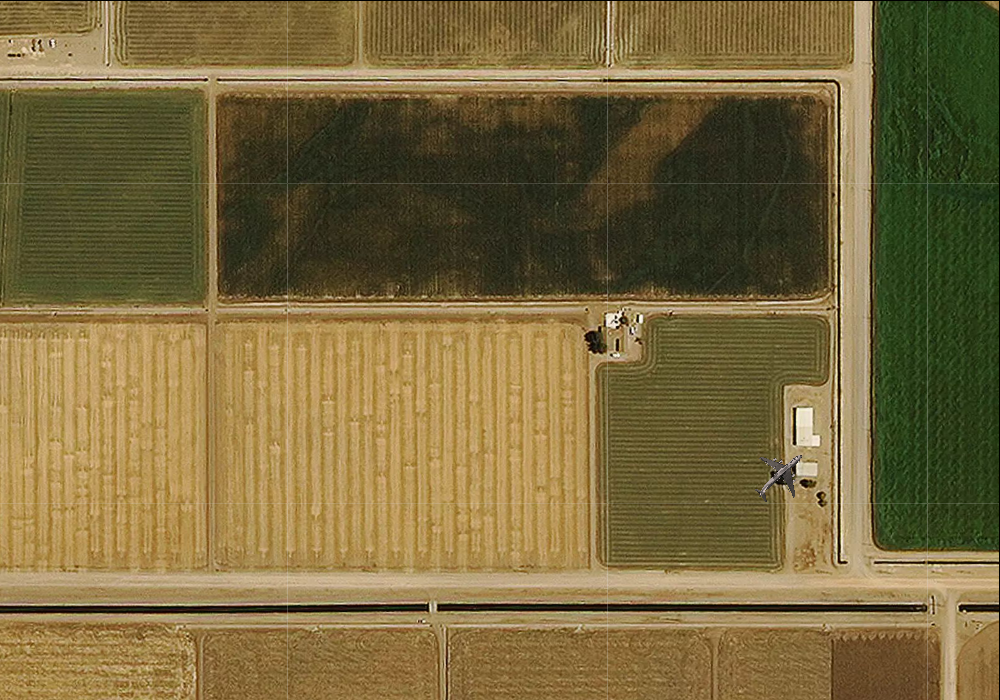plane: (739, 435, 821, 517)
